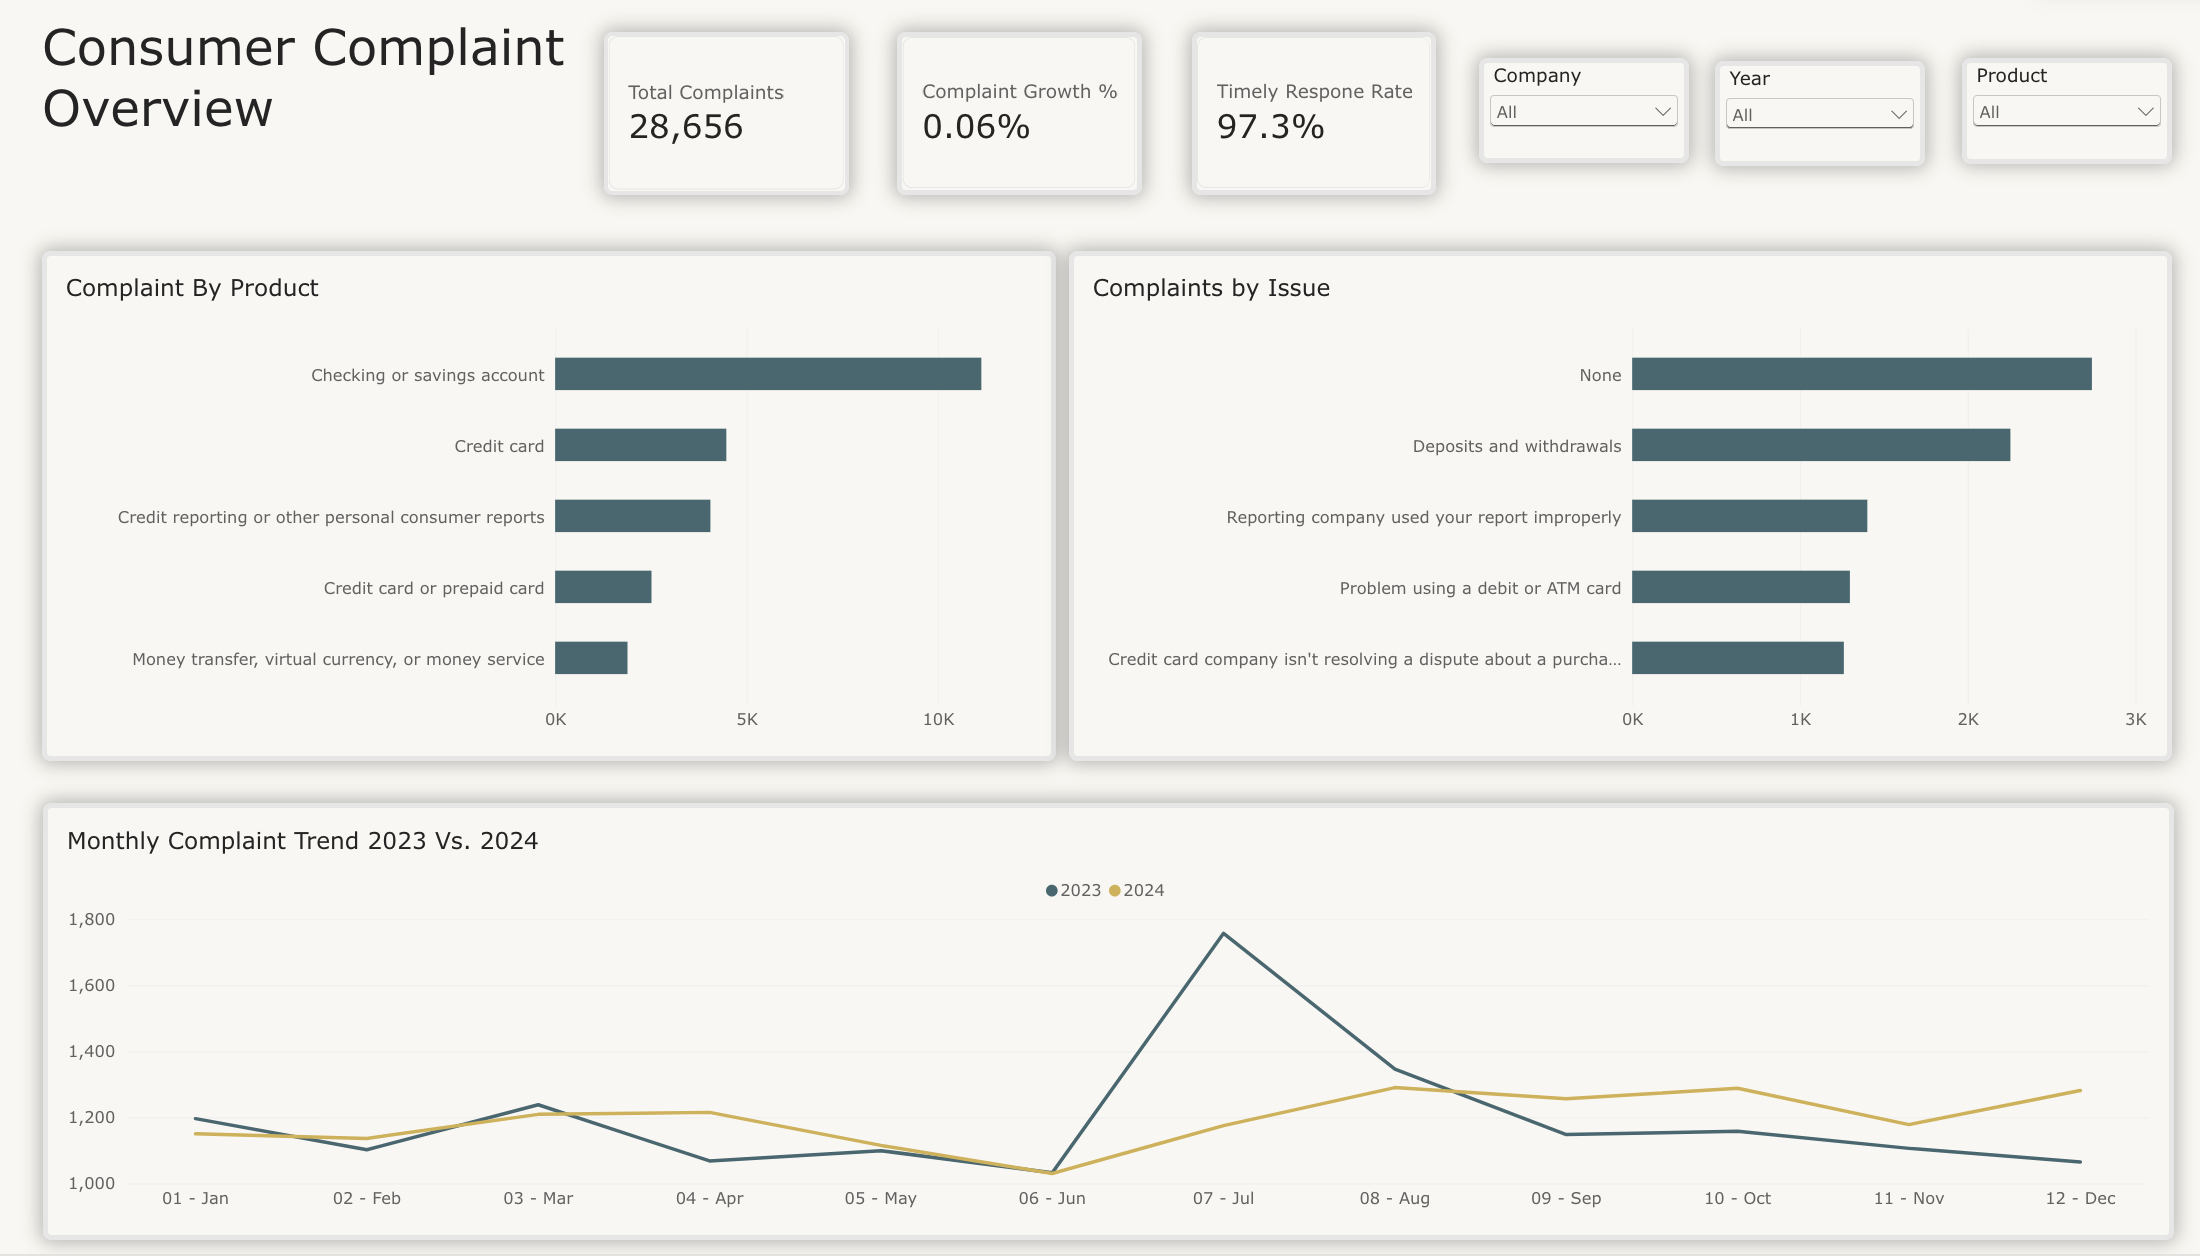

This screenshot's page, from the dashboard's own definition file:
{"tool":"powerbi","page":{"name":"Page 1","canvas":[1920,1080],"ordinal":0},"visuals":[{"type":"cardVisual","fields":{"Data":["complaints.Total Complaints"]},"box":[531.6,30.5,210,140],"z":0},{"type":"slicer","fields":{"Values":["Dim_Date.Year"]},"box":[1485.7,55,180,90],"z":1000},{"type":"cardVisual","fields":{"Data":["complaints.Complaint Growth %"]},"box":[784.1,30.5,210,140],"z":2000},{"type":"clusteredBarChart","title":"Complaint By Product","fields":{"Category":["complaints.Product"],"Y":["CountNonNull(complaints.Complaint ID)"]},"box":[49.1,218.1,870.6,438.2],"z":3000},{"type":"clusteredBarChart","title":" Complaints by Issue","fields":{"Category":["complaints.Sub-issue"],"Y":["CountNonNull(complaints.Complaint ID)"]},"box":[931.5,218.1,947.2,438.2],"z":4000},{"type":"lineChart","title":"Monthly Complaint Trend 2023 Vs. 2024","fields":{"Category":["Dim_Date.Month Label"],"Series":["Dim_Date.Year"],"Y":["complaints.Total Complaints"]},"box":[49.8,693,1829.8,375],"z":5000},{"type":"cardVisual","fields":{"Data":["complaints.timely response rate"]},"box":[1036.6,30.5,210,140],"z":6000},{"type":"slicer","fields":{"Values":["complaints.Product"]},"box":[1697.9,52.9,180,90.4],"z":8000},{"type":"slicer","fields":{"Values":["complaints.Company"]},"box":[1283.3,53.1,180,90],"z":9000},{"type":"textbox","box":[49.1,15.7,581.7,180.8],"z":10000}]}

Visuals, with their boxes in screenshot pixels (x1, y1, x2, y2), scaled from the page's 1920x1080 canvas onto the 2200x1256 screenshot:
cardVisual - complaints.Total Complaints: pyautogui.locateOnScreen(609, 35, 850, 198)
slicer - Dim_Date.Year: pyautogui.locateOnScreen(1702, 64, 1909, 169)
cardVisual - complaints.Complaint Growth %: pyautogui.locateOnScreen(898, 35, 1139, 198)
"Complaint By Product" clusteredBarChart: pyautogui.locateOnScreen(56, 254, 1054, 763)
" Complaints by Issue" clusteredBarChart: pyautogui.locateOnScreen(1067, 254, 2153, 763)
"Monthly Complaint Trend 2023 Vs. 2024" lineChart: pyautogui.locateOnScreen(57, 806, 2154, 1242)
cardVisual - complaints.timely response rate: pyautogui.locateOnScreen(1188, 35, 1428, 198)
slicer - complaints.Product: pyautogui.locateOnScreen(1946, 62, 2152, 167)
slicer - complaints.Company: pyautogui.locateOnScreen(1470, 62, 1677, 166)
textbox: pyautogui.locateOnScreen(56, 18, 723, 229)
